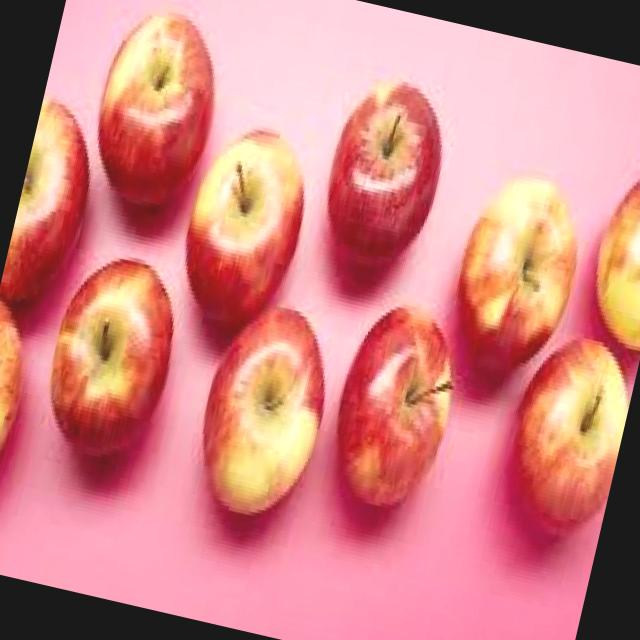Apple: (182, 291, 345, 526), (436, 162, 594, 392), (166, 111, 320, 341), (32, 244, 188, 467), (317, 291, 470, 516), (77, 0, 233, 219), (490, 322, 640, 543), (308, 66, 459, 283), (0, 92, 108, 315), (577, 147, 640, 351), (0, 296, 41, 503)
